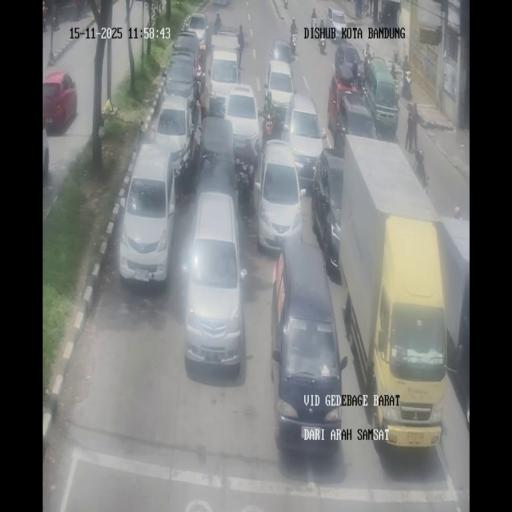3: (336, 136, 463, 446)
car: (270, 237, 343, 452), (182, 189, 247, 369), (118, 144, 176, 285), (314, 147, 346, 277), (153, 93, 198, 183), (282, 92, 325, 186), (196, 114, 238, 196), (334, 90, 375, 154), (208, 46, 243, 115), (263, 60, 295, 130), (42, 71, 77, 132), (163, 51, 198, 106), (334, 42, 362, 83), (183, 11, 210, 48), (326, 6, 347, 40), (42, 121, 49, 181)
truck: (413, 148, 428, 191), (193, 59, 205, 99), (233, 160, 244, 200), (254, 138, 263, 178), (199, 88, 209, 123), (401, 70, 412, 100), (356, 68, 365, 95), (392, 70, 400, 98), (236, 42, 244, 70), (363, 42, 374, 61), (317, 34, 327, 54), (53, 2, 60, 30), (289, 34, 296, 60), (76, 0, 85, 17), (290, 17, 297, 34), (311, 12, 317, 31), (214, 18, 221, 34), (362, 0, 368, 17), (402, 55, 408, 69), (320, 16, 325, 31), (276, 0, 282, 12), (378, 10, 382, 23), (283, 0, 288, 9)
